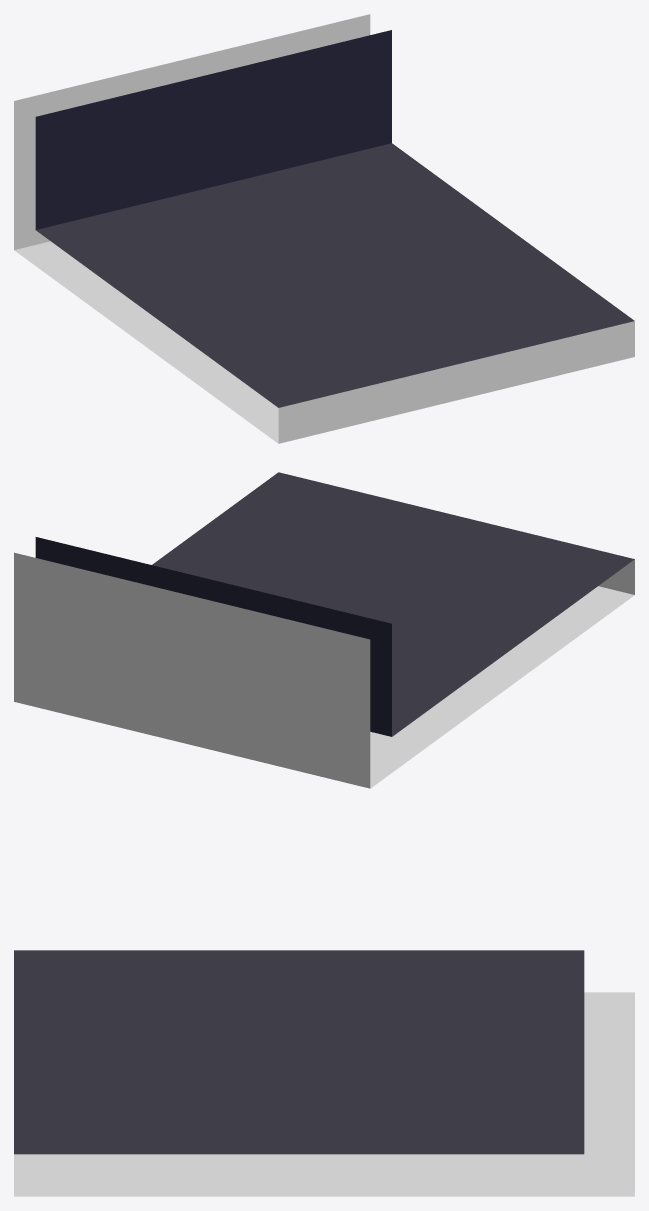
File: 1U Floor Large.fbx
3 renders of one model, top to bottom at view 1: azimuth 30°, elevation 25°; view 2: azimuth 150°, elevation 25°; view 3: azimuth 270°, elevation 25°, orthographic. The views are drawn at different scales.
Visible parts, largest first — view 1: 1U Floor Large; view 2: 1U Floor Large; view 3: 1U Floor Large.
Part boxes in pixels (x1=…): 1U Floor Large: x1=14, y1=14, x2=634, y2=443; 1U Floor Large: x1=14, y1=472, x2=634, y2=788; 1U Floor Large: x1=14, y1=950, x2=634, y2=1196.
Size of the model in its own units: 622 by 249 by 799.
